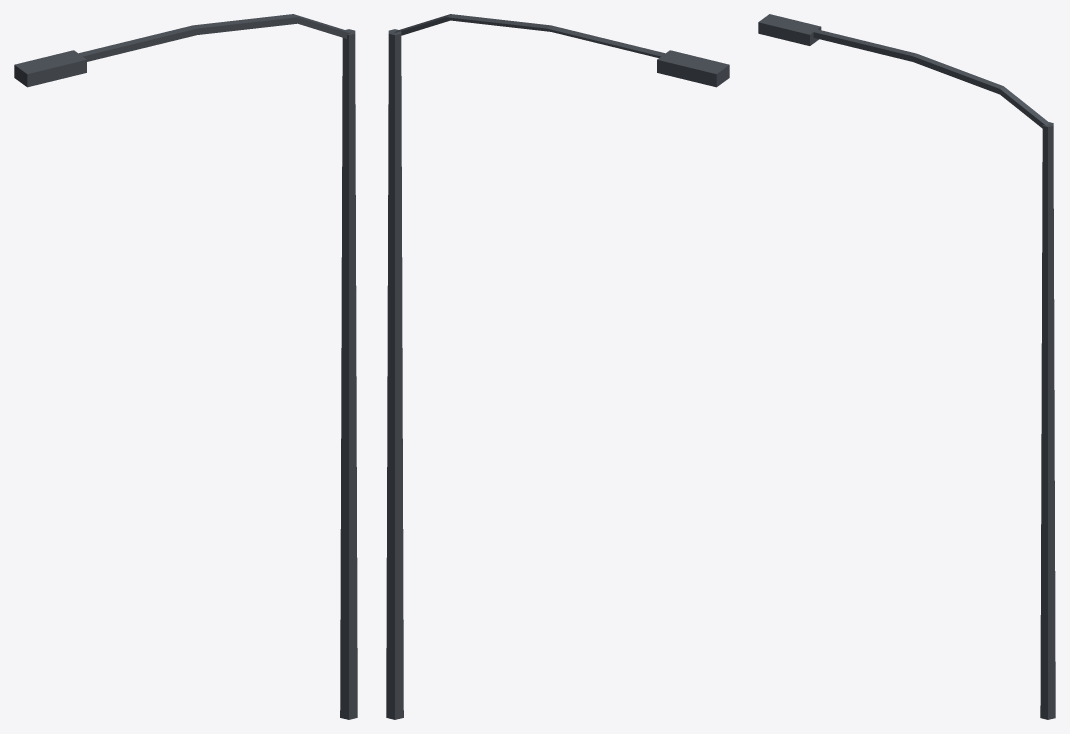
The model's file is wangan_lamp.glb.
3 views of the same model, side by side, from view 1: azimuth 30°, elevation 25°; view 2: azimuth 150°, elevation 25°; view 3: azimuth 330°, elevation 25° (orthographic). The views are drawn at different scales.
Parts seen in each view (by area): view 1: wangan_lamp; view 2: wangan_lamp; view 3: wangan_lamp.
Boxes of the visible parts, x1,y1,x2,y2 form: wangan_lamp: (14,14,357,719); wangan_lamp: (386,14,729,719); wangan_lamp: (758,14,1055,719).
Size of the model in its own units: 5.36 by 11.05 by 0.36.
Materials: 2 (2 with a texture image).
